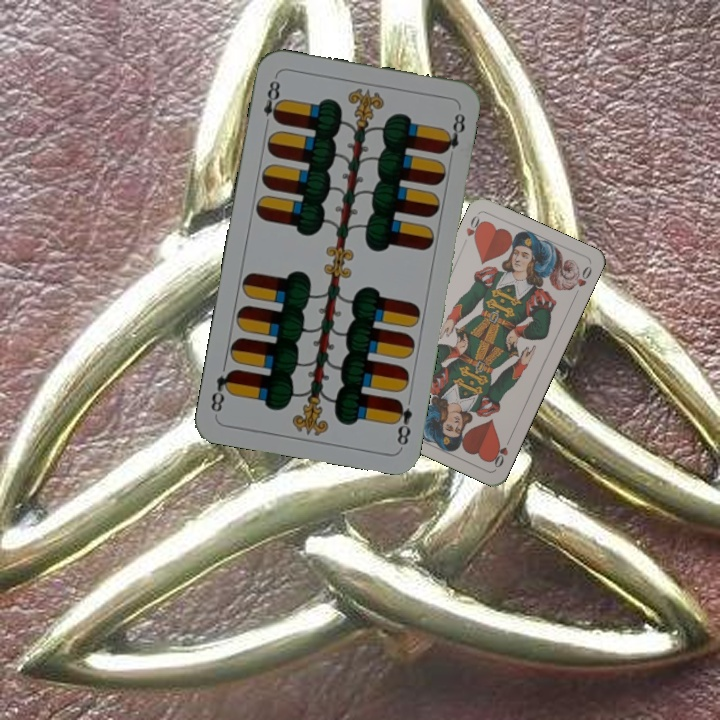E8: (389, 395, 415, 448), (259, 73, 285, 125)
HO: (459, 211, 486, 249), (488, 433, 514, 470)
